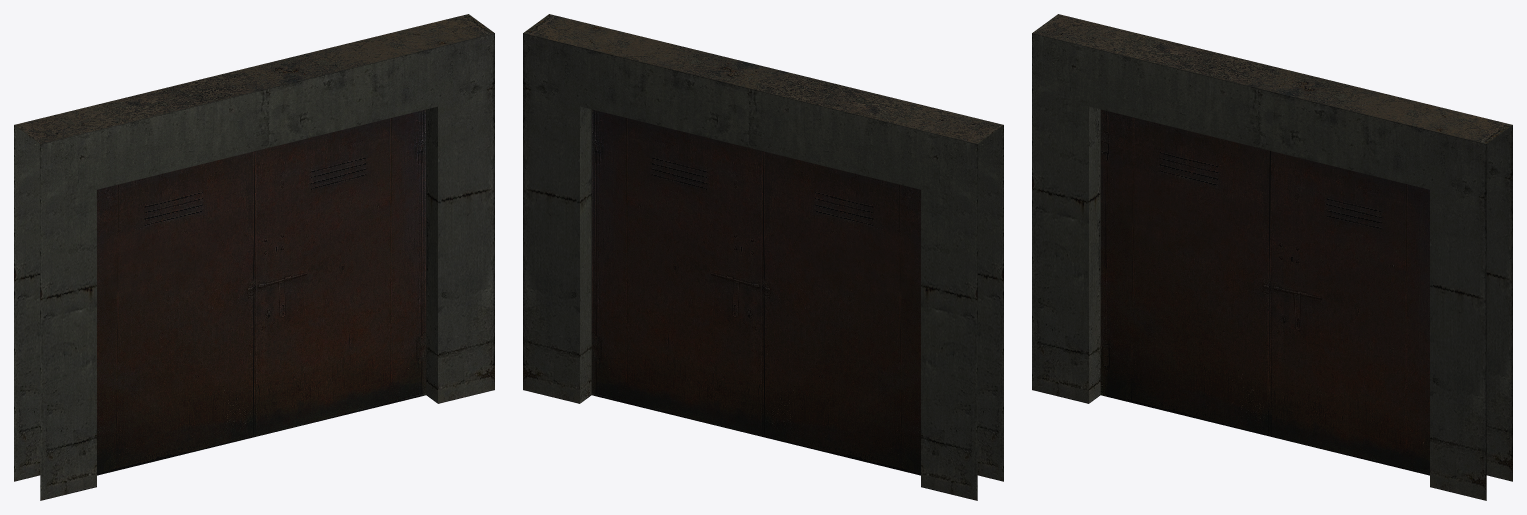
File: garage_door_frame_rg_2.glb
3 renders of one model, left to right at view 1: azimuth 30°, elevation 25°; view 2: azimuth 150°, elevation 25°; view 3: azimuth 330°, elevation 25°, orthographic.
Parts seen in each view (by area): view 1: garage_door_hm_3, garage_door_frame_rg_2; view 2: garage_door_hm_3, garage_door_frame_rg_2; view 3: garage_door_hm_3, garage_door_frame_rg_2.
Part boxes in pixels (bbox=[...]): garage_door_hm_3: bbox=[97, 109, 426, 475]; garage_door_frame_rg_2: bbox=[14, 14, 494, 500]; garage_door_hm_3: bbox=[591, 109, 920, 475]; garage_door_frame_rg_2: bbox=[523, 14, 1003, 500]; garage_door_hm_3: bbox=[1100, 109, 1429, 475]; garage_door_frame_rg_2: bbox=[1032, 14, 1512, 500].
Bounding box in the file's own units: 4 × 3 × 0.4.
3 materials, 3 textured.
